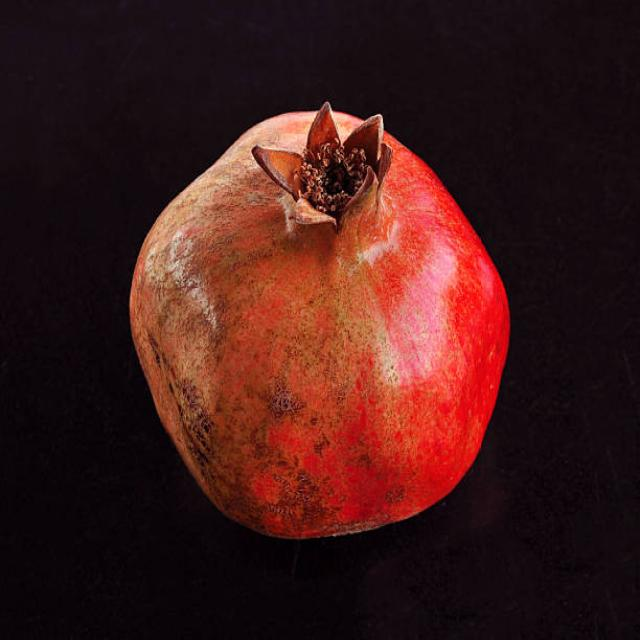overripe: (117, 99, 510, 543)
